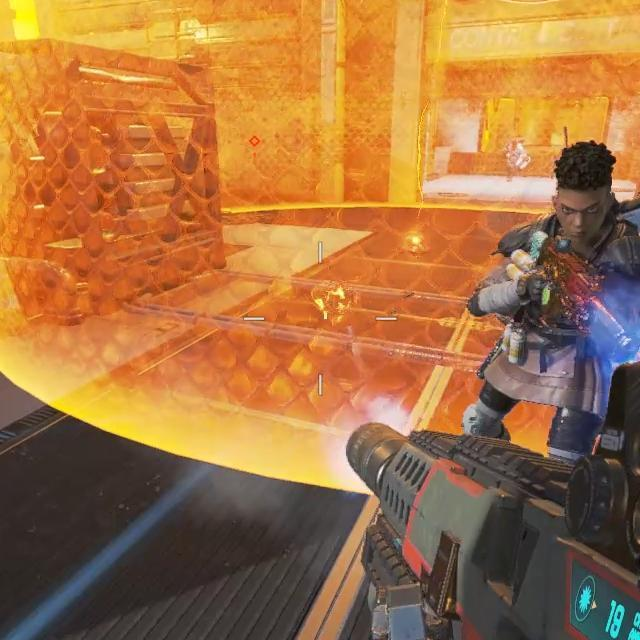avatar: (460, 131, 640, 466)
